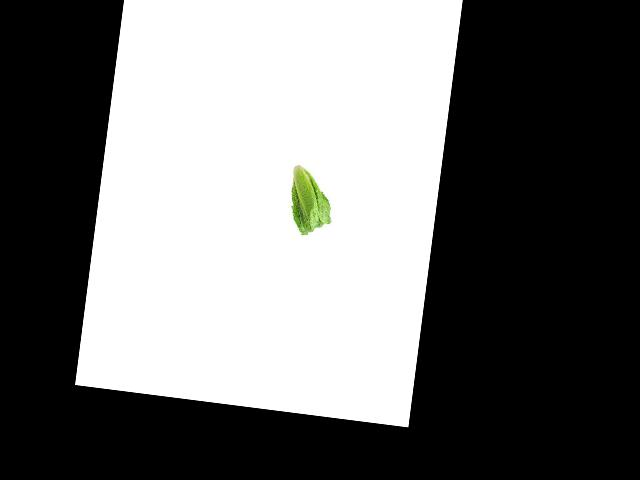lettuce: (284, 158, 339, 238)
